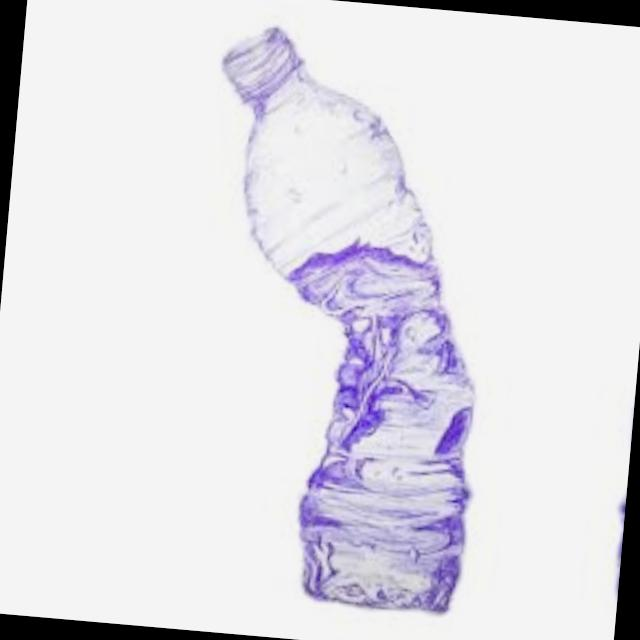Plastic: (162, 22, 524, 636), (594, 59, 640, 640)
